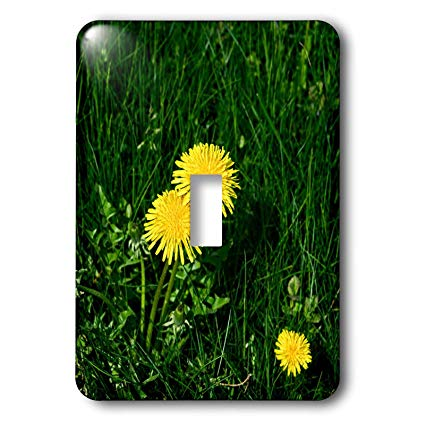dandelion: (144, 194, 190, 260), (271, 329, 317, 376)
